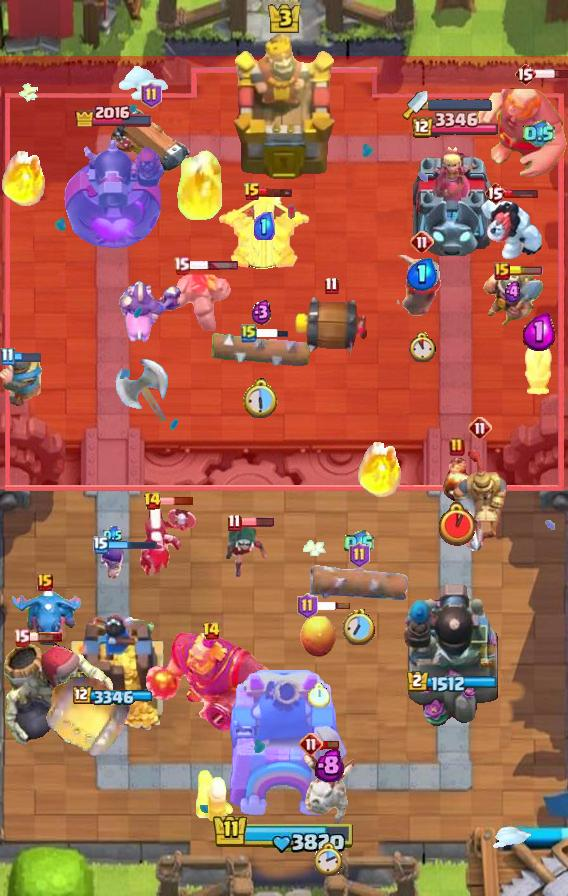balloon: (474, 77, 568, 179)
bandit: (480, 268, 546, 330)
bar: (409, 142, 497, 256)
battle-healer: (110, 105, 192, 189)
bomber: (441, 457, 473, 505)
clock: (212, 813, 356, 855)
dirt: (43, 669, 133, 761)
electro-giant: (0, 641, 116, 751)
electro-spirit: (523, 313, 555, 351), (407, 258, 438, 291), (316, 748, 344, 782), (523, 120, 555, 148), (344, 531, 374, 558), (254, 212, 275, 240), (252, 299, 273, 325), (503, 281, 523, 303), (102, 526, 122, 545)
elixir: (439, 502, 475, 546), (244, 377, 281, 418), (343, 609, 375, 645), (314, 842, 344, 878), (407, 333, 437, 364), (308, 684, 330, 709)
emote: (187, 260, 239, 272), (106, 539, 158, 551), (7, 349, 42, 362), (258, 186, 294, 198), (504, 187, 540, 199), (254, 327, 290, 339), (239, 516, 275, 528), (27, 631, 63, 643), (534, 68, 568, 80), (507, 266, 543, 276), (315, 601, 351, 611), (158, 496, 193, 506), (320, 738, 340, 749)
executioner: (523, 334, 555, 398)
firecracker: (391, 255, 453, 321), (0, 352, 44, 407)
freeze: (119, 274, 183, 346)
goblin: (99, 541, 125, 579)
graveyard: (9, 586, 81, 648)
hog: (300, 611, 338, 659)
king-tower: (219, 670, 349, 826), (231, 35, 337, 182)
king-tower-bar: (428, 99, 492, 111)
lava-pup: (215, 190, 313, 272)
lightning: (143, 632, 280, 732)
mini-pekka: (301, 748, 357, 830)
minion: (308, 560, 410, 604), (210, 332, 312, 370)
queen-tower: (62, 613, 165, 731)
rage: (480, 197, 546, 261)
ram-rider: (450, 445, 510, 555)
rascal-boy: (137, 506, 199, 578)
royal-giant: (113, 356, 171, 428)
selected: (410, 112, 499, 140), (407, 670, 499, 694), (74, 101, 154, 126), (73, 686, 155, 707)
tesla: (220, 523, 270, 577)
text: (410, 230, 434, 254), (468, 416, 492, 440), (299, 732, 323, 756), (142, 82, 163, 108), (350, 542, 371, 568), (297, 593, 318, 619), (514, 62, 536, 86), (484, 181, 506, 205), (143, 491, 162, 511), (202, 621, 221, 641), (243, 182, 261, 202), (13, 629, 30, 648), (241, 323, 257, 343), (449, 437, 465, 457), (174, 257, 191, 275), (494, 262, 510, 280), (93, 536, 109, 554), (37, 573, 53, 591), (1, 346, 16, 365), (325, 276, 339, 295), (227, 512, 241, 531)
the-log: (291, 295, 371, 355)
tombstone: (194, 767, 236, 825)
tower-bar: (402, 579, 504, 731), (60, 132, 167, 256)
valkyrie: (174, 149, 228, 225), (0, 143, 50, 209), (356, 434, 406, 500)
valkyrie-evolution: (157, 269, 233, 331)
